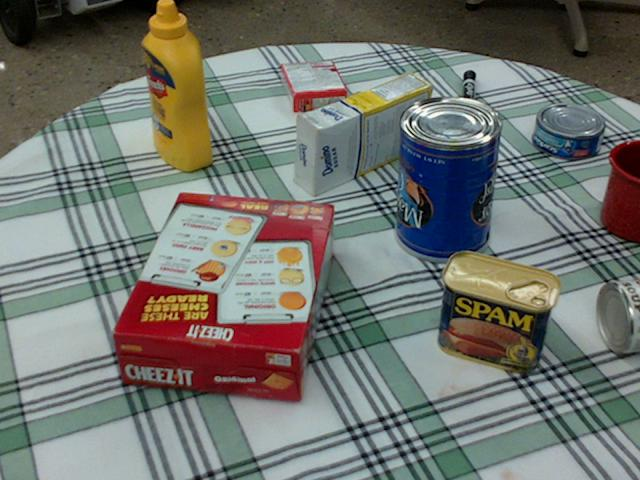cracker_box: (111, 194, 333, 399)
gelatin_box: (281, 61, 347, 111)
large_marker: (459, 69, 476, 121)
master_chef_can: (394, 95, 504, 260)
mug: (600, 140, 639, 243)
mustard_bottle: (142, 0, 210, 169)
potted_meat_can: (437, 251, 560, 371)
sugar_box: (295, 72, 431, 196)
tomato_soup_can: (598, 278, 639, 351)
tuna_fish_can: (533, 103, 605, 158)
